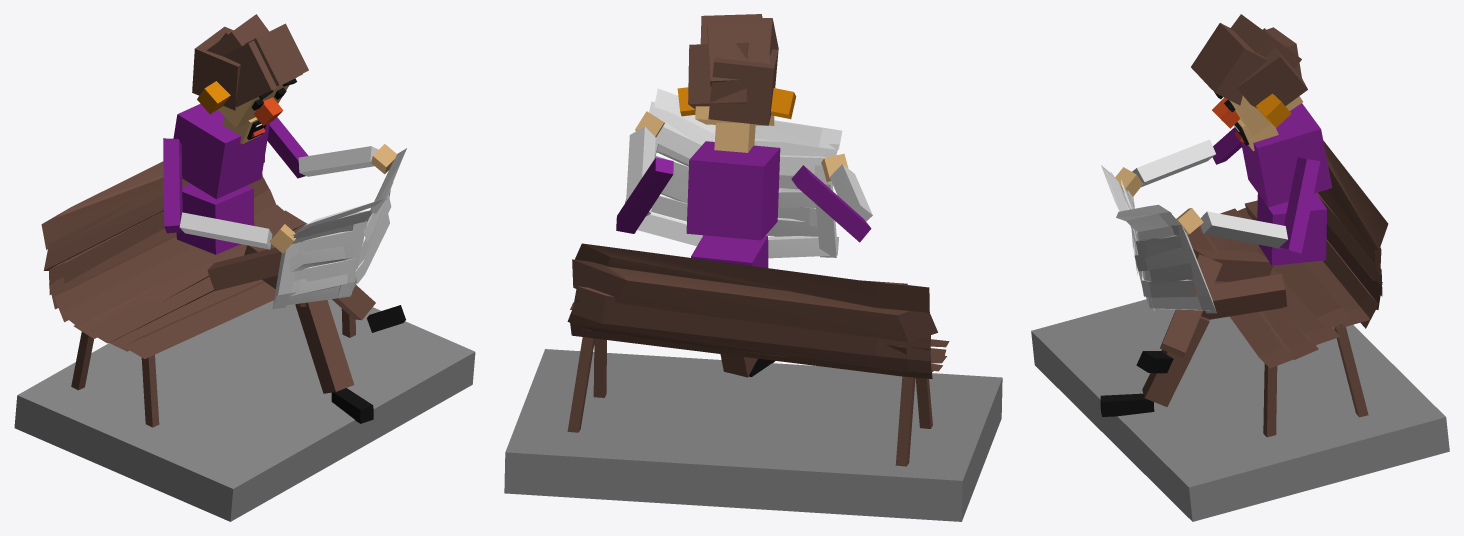
3 views of the same model, side by side, from view 1: azimuth 30°, elevation 25°; view 2: azimuth 150°, elevation 25°; view 3: azimuth 270°, elevation 25° (orthographic). The views are drawn at different scales.
Visible parts, largest first — view 1: node_MeshObject-2002784192-PolyPaper23; view 2: node_MeshObject-2002784192-PolyPaper23; view 3: node_MeshObject-2002784192-PolyPaper23.
Boxes of the visible parts, box(x1,y1,x2,y2) form: node_MeshObject-2002784192-PolyPaper23: box(14, 14, 475, 521); node_MeshObject-2002784192-PolyPaper23: box(504, 14, 1002, 521); node_MeshObject-2002784192-PolyPaper23: box(1031, 14, 1449, 521).
Bounding box in the file's own units: 2.08 × 1.89 × 1.79.
